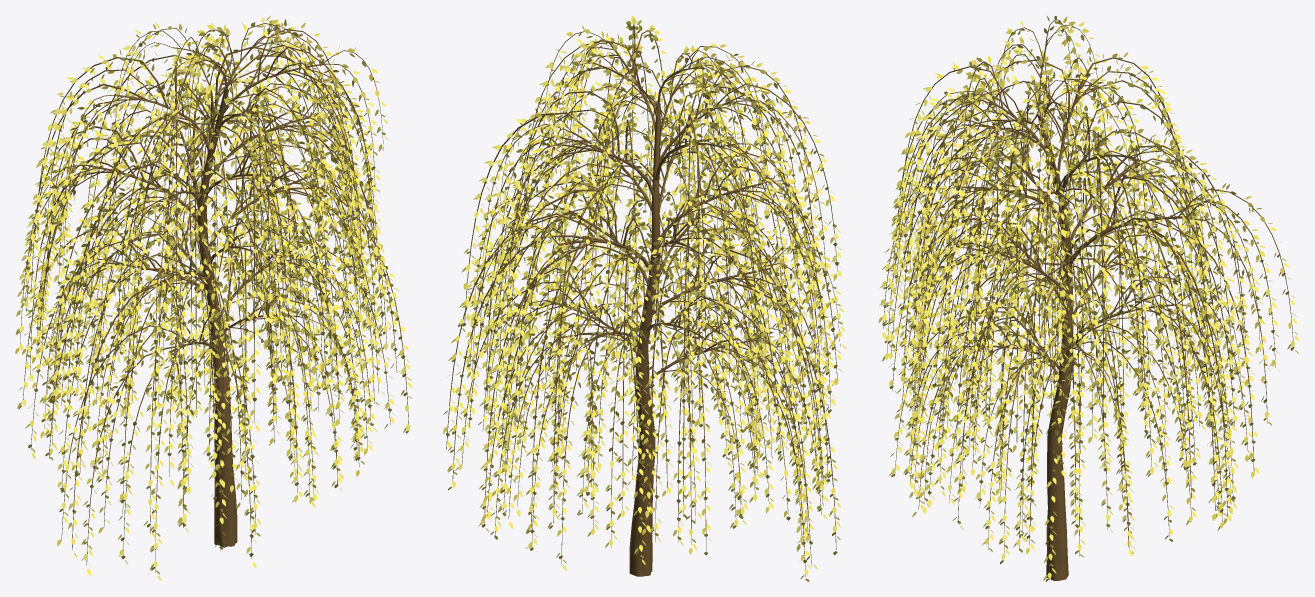
Rendered from Maxtree.FBX.
3 views of the same model, side by side, from view 1: azimuth 30°, elevation 25°; view 2: azimuth 150°, elevation 25°; view 3: azimuth 270°, elevation 25° (orthographic).
Visible parts, largest first — view 1: Foliage001; view 2: Foliage001; view 3: Foliage001.
Part boxes in pixels (box(x1,y1,x2,y2)): Foliage001: box(15, 16, 412, 580); Foliage001: box(443, 16, 846, 581); Foliage001: box(878, 16, 1299, 581).
Bounding box in the file's own units: 289 × 431 × 312.
